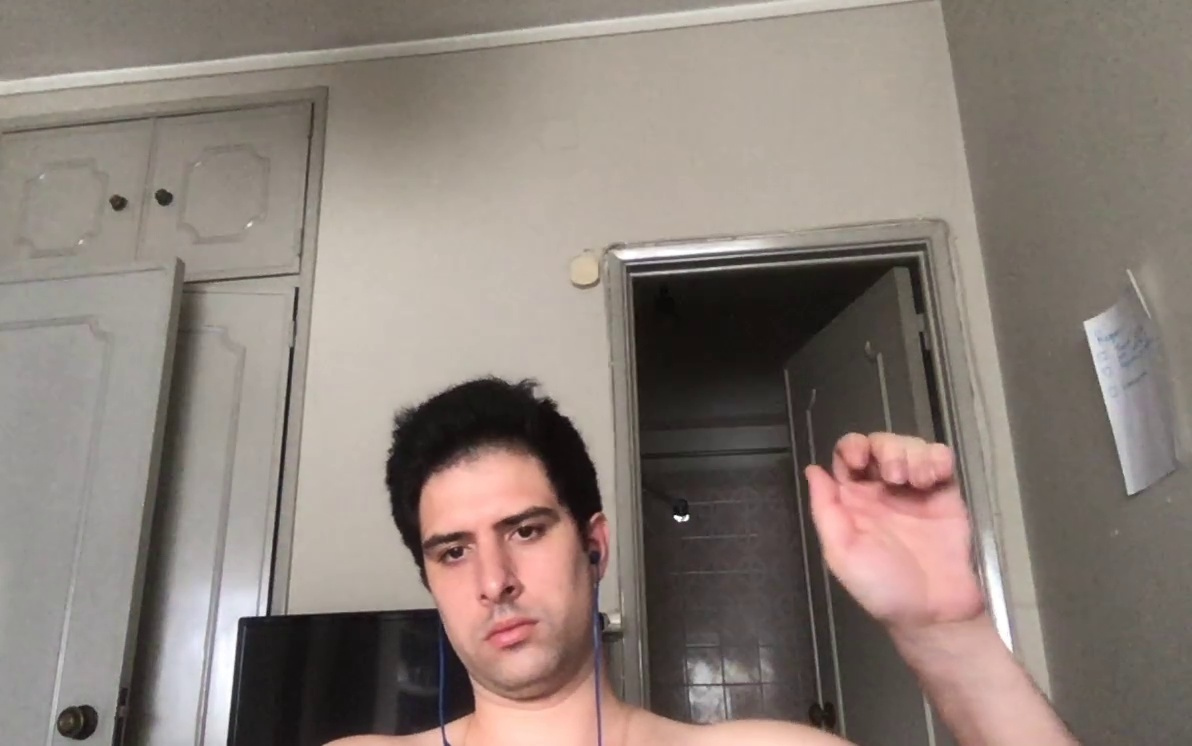c: (804, 425, 986, 626)
